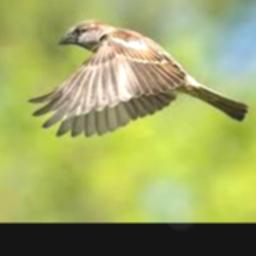Sparrow: (28, 20, 248, 136)
